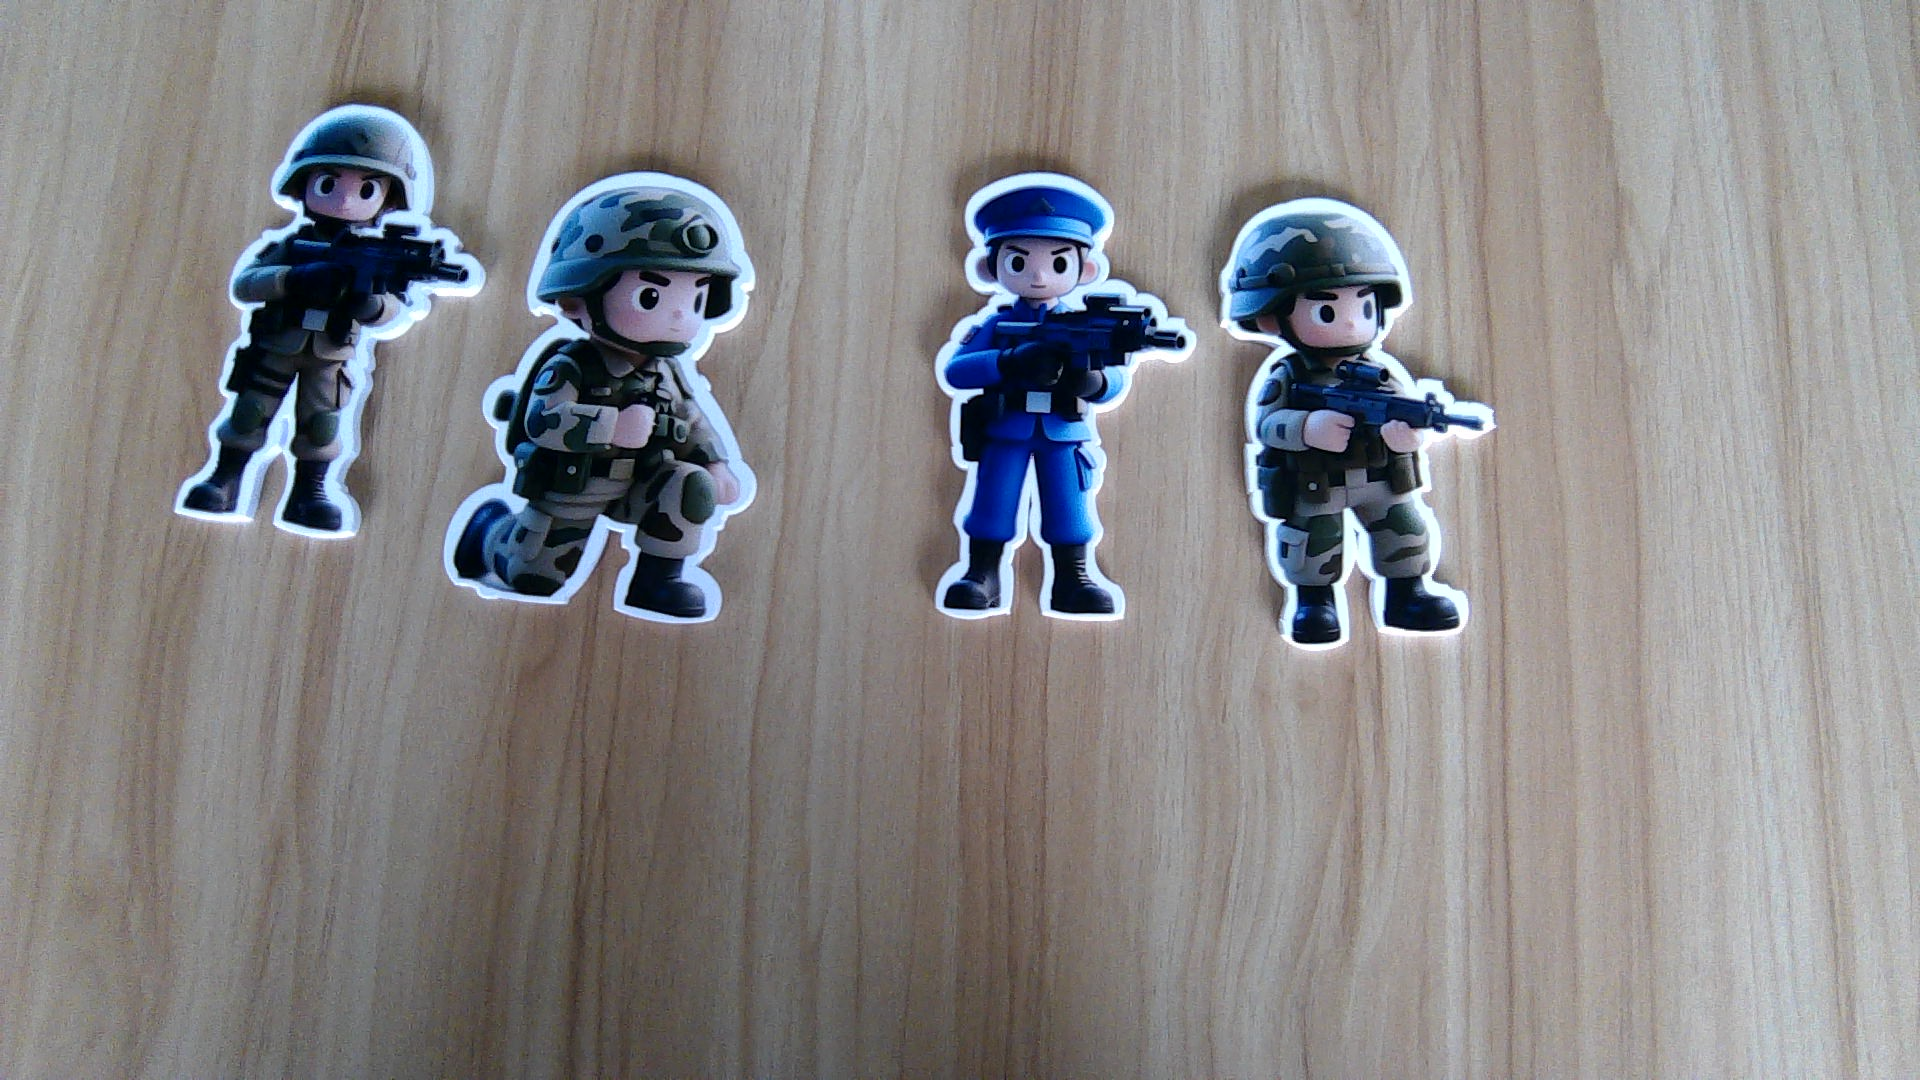友军: (167, 225, 473, 541), (440, 351, 758, 621), (1236, 357, 1499, 647)
敌人2: (926, 294, 1184, 626)
